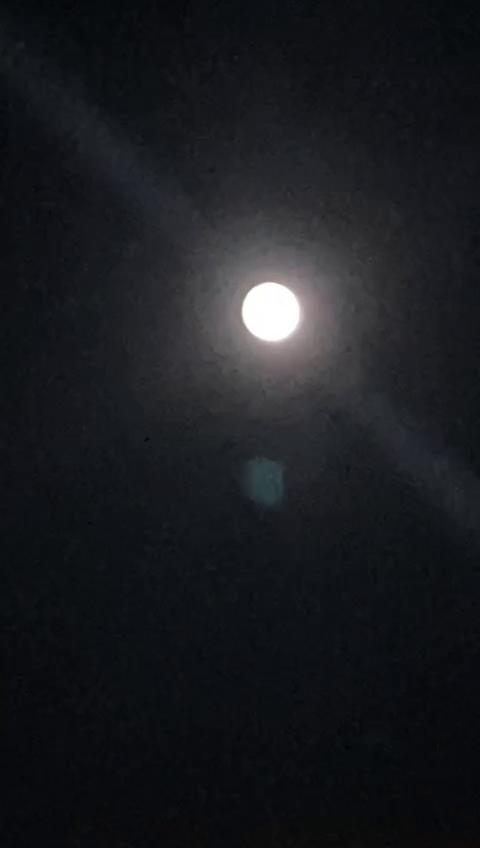moon: (233, 262, 306, 334)
